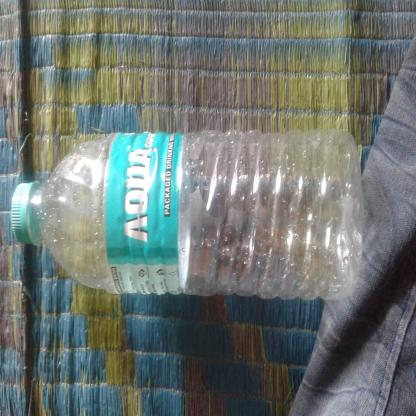bottle: (65, 20, 164, 416)
